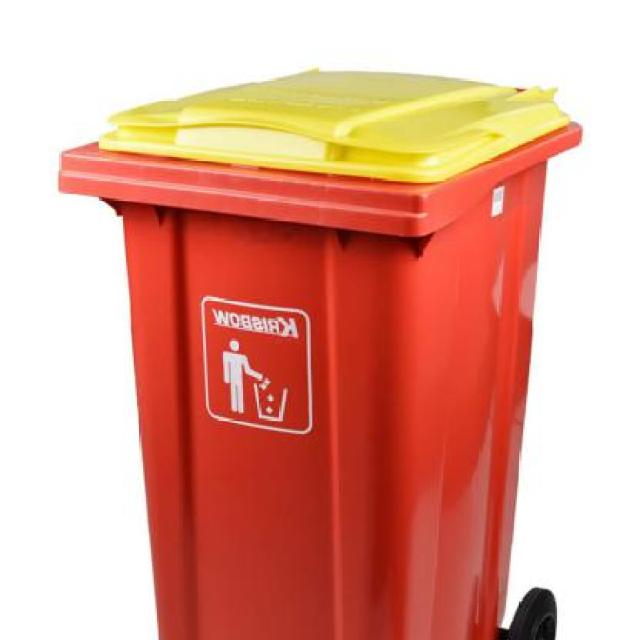garbage container: (37, 57, 594, 640)
